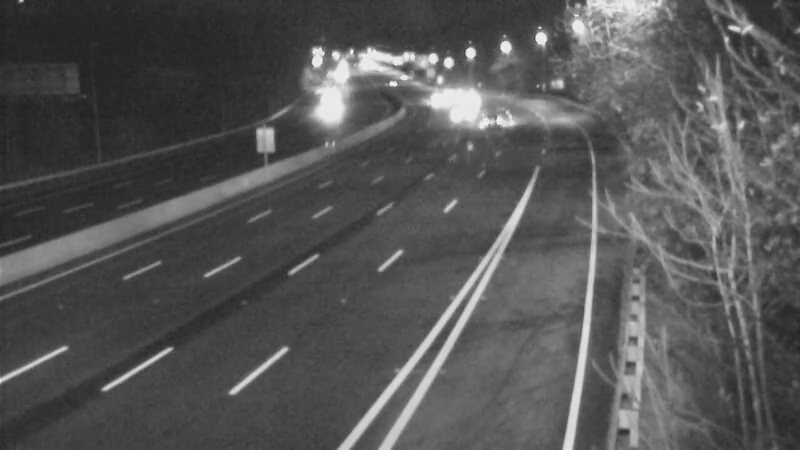vehicle: (412, 71, 462, 121), (443, 76, 493, 126), (444, 87, 494, 137), (470, 99, 520, 149), (297, 89, 347, 139)
